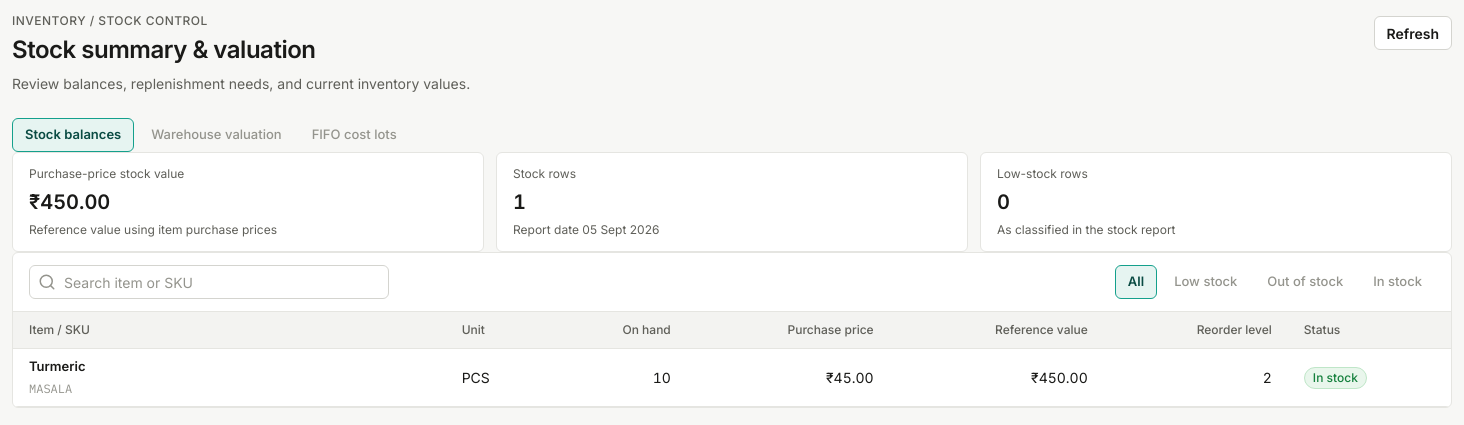
Scenario: Stock valuation contracts and states › shows a failed FIFO request as an error, not empty success
Click the tab "FIFO cost lots".
click(354, 135)  # box [299,118,410,152]
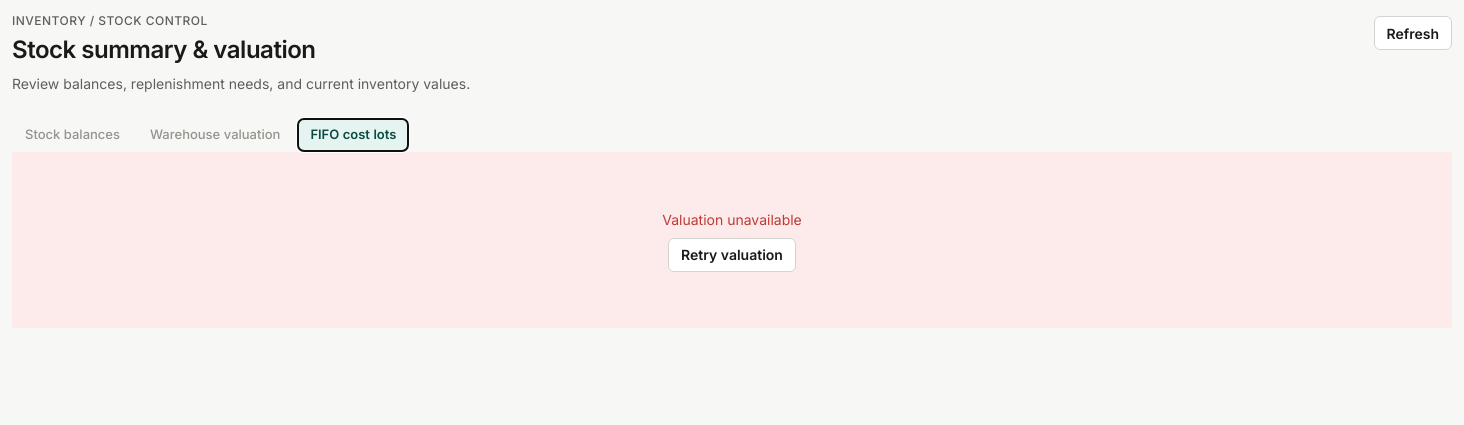
Now the message shows "Valuation unavailable", box [662,211,802,228]
